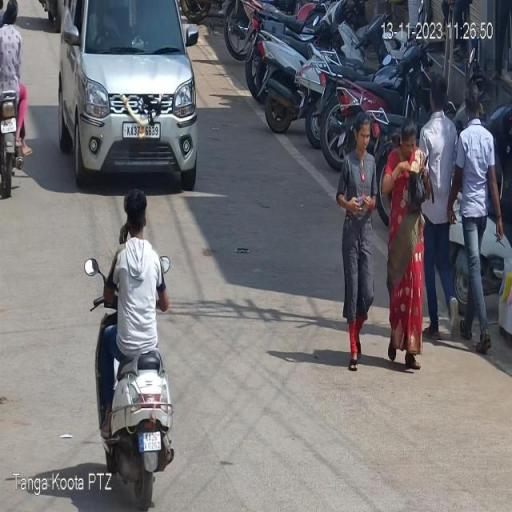using mobile: (118, 218, 132, 244)
